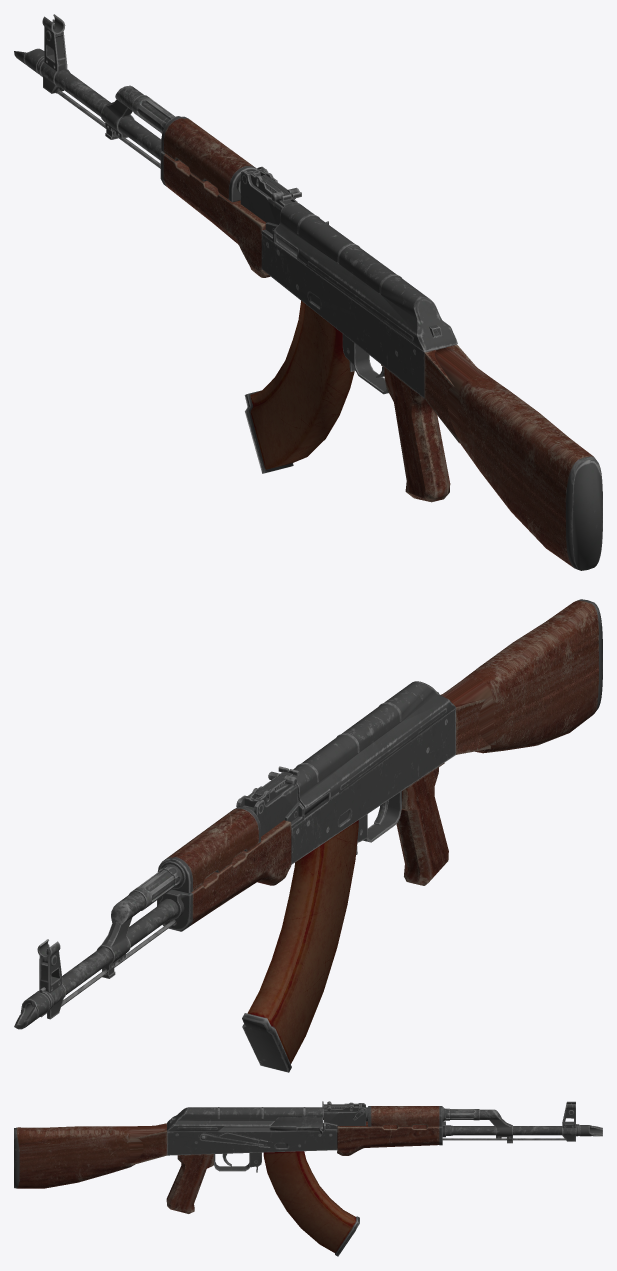
Rendered from akm-real.glb.
3 views of the same model, one above another, from view 1: azimuth 30°, elevation 25°; view 2: azimuth 150°, elevation 25°; view 3: azimuth 270°, elevation 25° (orthographic). The views are drawn at different scales.
Visible parts, largest first — view 1: Body, Magazine; view 2: Body, Magazine; view 3: Body, Magazine, ChargingHandle.
Part boxes in pixels (<box>): Body: <box>14,14,602,570</box>; Magazine: <box>244,301,354,473</box>; Body: <box>14,599,602,1029</box>; Magazine: <box>242,820,358,1072</box>; Body: <box>14,1101,602,1213</box>; Magazine: <box>263,1151,359,1256</box>; ChargingHandle: <box>269,1117,323,1134</box>.
Bounding box in the file's own units: 0.0526 × 0.2523 × 0.895.
1 material, 1 textured.
